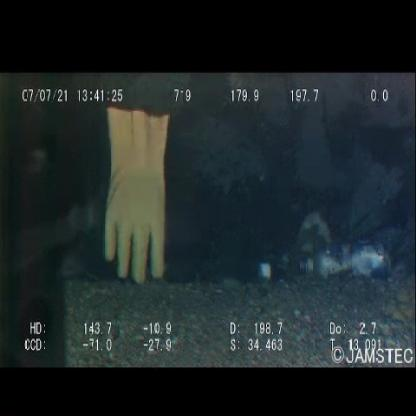Rác: (251, 248, 293, 290)
